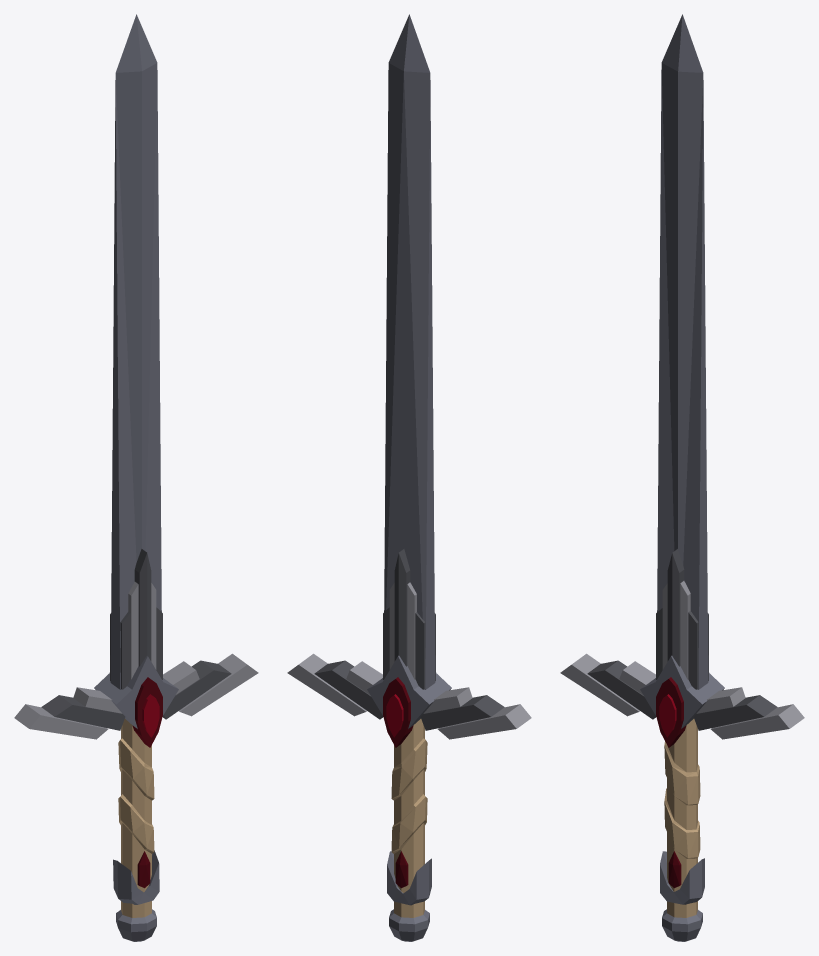
The model's file is sword_7.glb.
3 renders of one model, left to right at view 1: azimuth 30°, elevation 25°; view 2: azimuth 150°, elevation 25°; view 3: azimuth 330°, elevation 25°, orthographic.
Parts seen in each view (by area): view 1: sword_7; view 2: sword_7; view 3: sword_7.
Part boxes in pixels (x1=…): sword_7: x1=14, y1=14, x2=258, y2=941; sword_7: x1=287, y1=14, x2=531, y2=941; sword_7: x1=560, y1=14, x2=804, y2=941.
Bounding box in the file's own units: 0.2684 × 1.03 × 0.0622.
1 material, 1 textured.
